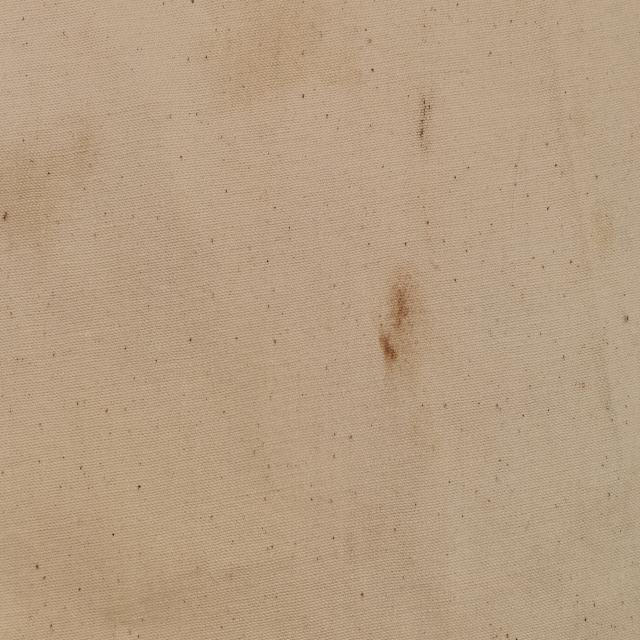taaaches: (376, 256, 428, 394), (416, 90, 434, 168)
